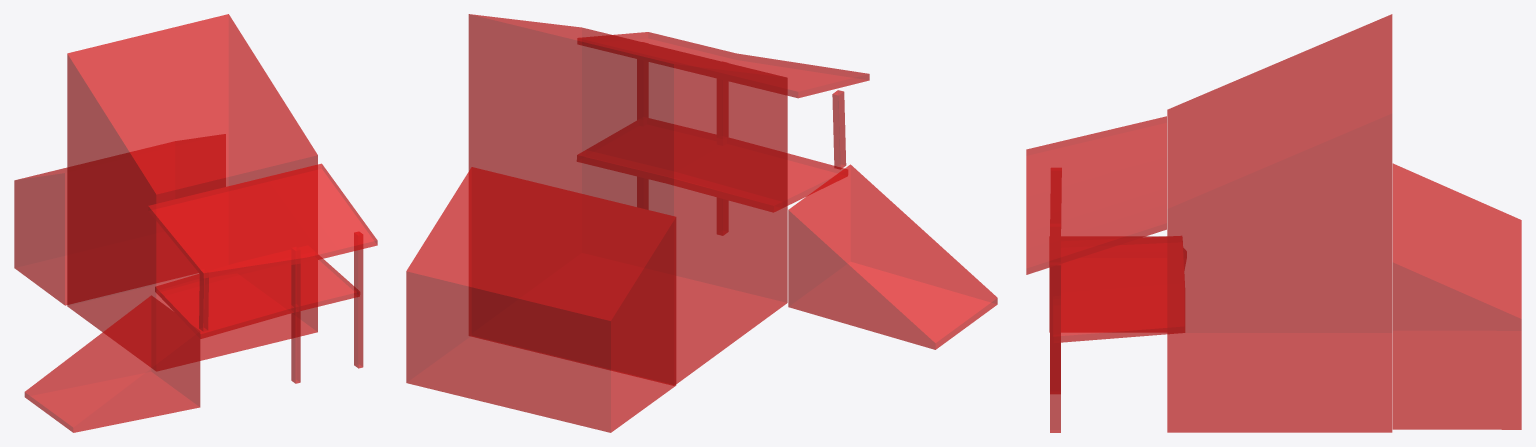
Rendered from SM_Bld_Shanty_Preset_04_Collision.fbx.
3 views of the same model, side by side, from view 1: azimuth 30°, elevation 25°; view 2: azimuth 150°, elevation 25°; view 3: azimuth 270°, elevation 25° (orthographic). The views are drawn at different scales.
Parts seen in each view (by area): view 1: SM_Bld_Shanty_Preset_04_Collision; view 2: SM_Bld_Shanty_Preset_04_Collision; view 3: SM_Bld_Shanty_Preset_04_Collision.
Boxes of the visible parts, x1,y1,x2,y2 form: SM_Bld_Shanty_Preset_04_Collision: (14, 14, 377, 432); SM_Bld_Shanty_Preset_04_Collision: (406, 14, 997, 432); SM_Bld_Shanty_Preset_04_Collision: (1026, 14, 1521, 432).
Bounding box in the file's own units: 898 × 753 × 1055.
